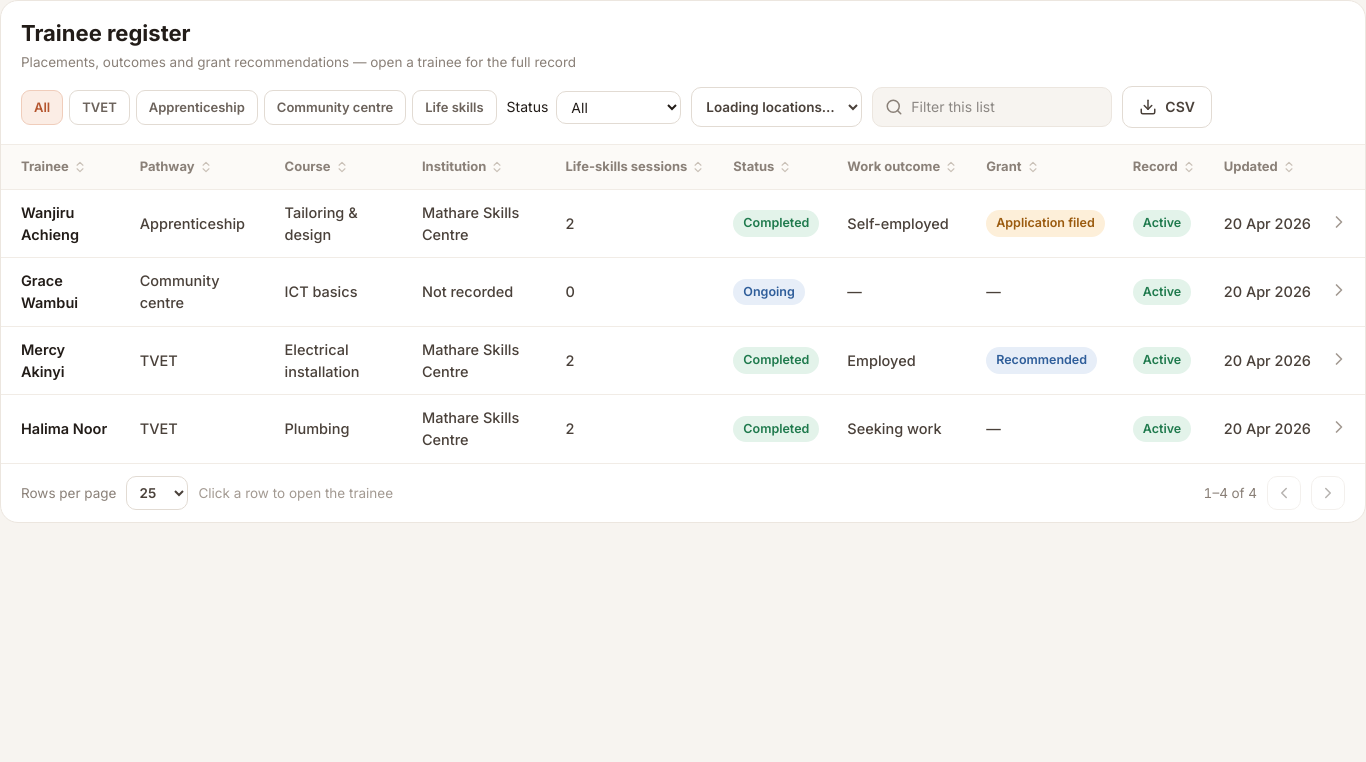
Test: trainee drawer › shows the placement, outcome and salary with the three tabs
This screenshot has width=1366, height=762.
What coordinates should you click on to do the following:
click the button named "Open Wanjiru Achieng"
I would click on:
 (1339, 222)
Its box is [1327, 210, 1351, 234].
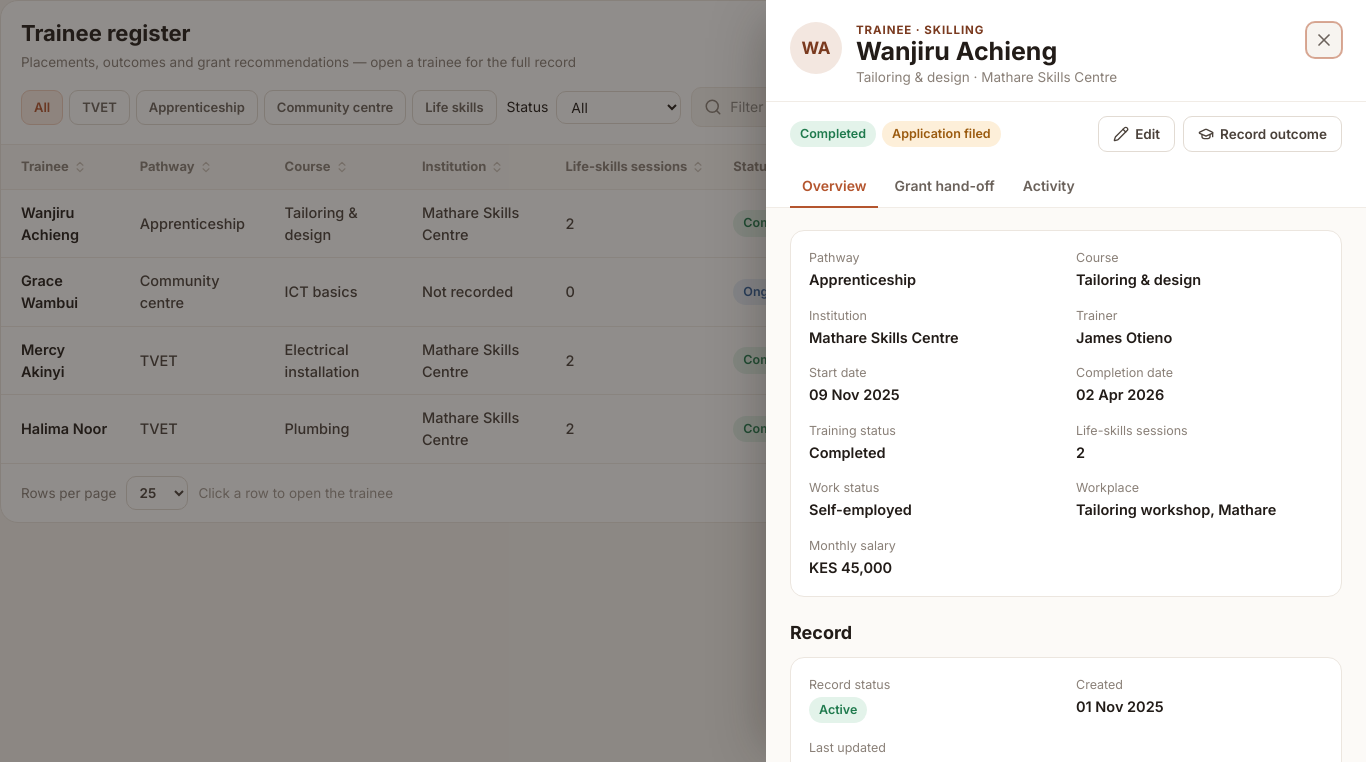
Now the dialog shows "Trainee · Skilling", box [856, 23, 984, 37]
Now the dialog shows "Tailoring & design · Mathare Skills Centre", box [856, 69, 1117, 85]
Now the dialog shows "James Otieno", box [1076, 329, 1172, 346]
